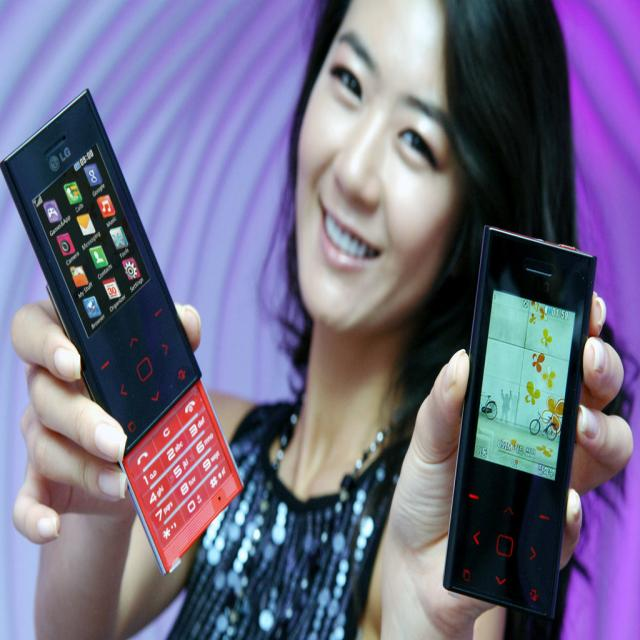Mobile-phone: (0, 87, 246, 576), (446, 209, 598, 622)
